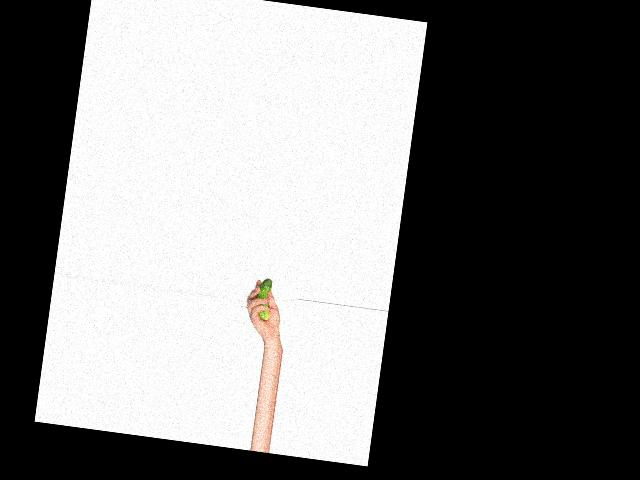cucumber: (253, 277, 274, 320)
